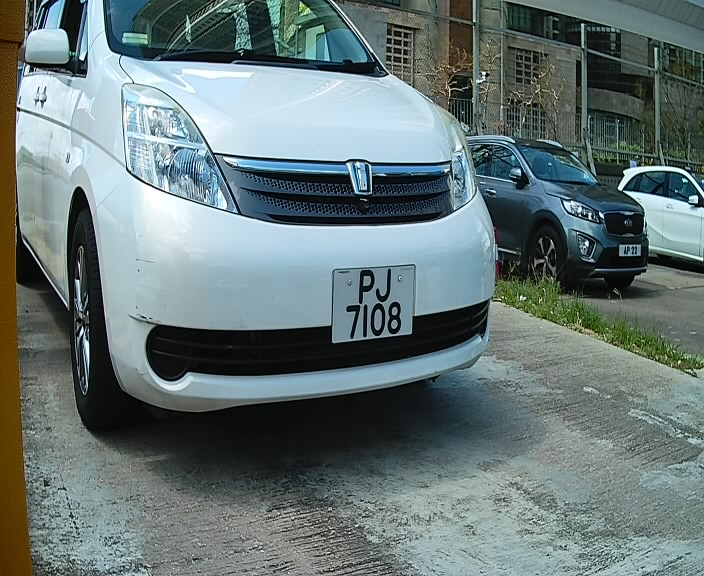Car: (15, 2, 507, 456)
License Plate: (316, 257, 424, 351)
